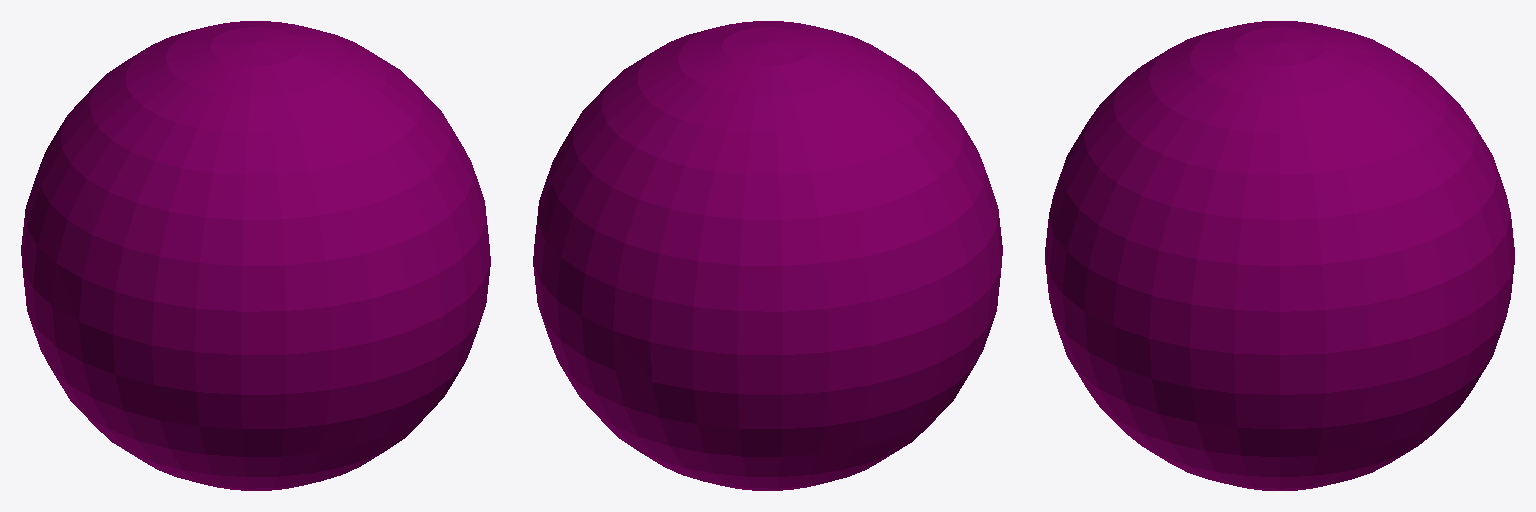
Rendered from UnitSphere.obj.
3 views of the same model, side by side, from view 1: azimuth 30°, elevation 25°; view 2: azimuth 150°, elevation 25°; view 3: azimuth 270°, elevation 25° (orthographic).
Parts seen in each view (by area): view 1: Sphere001; view 2: Sphere001; view 3: Sphere001.
Part boxes in pixels (x1,y1,x2,y2): Sphere001: (21, 21, 490, 490); Sphere001: (533, 21, 1002, 490); Sphere001: (1045, 21, 1514, 490).
Bounding box in the file's own units: 1 × 1 × 1.